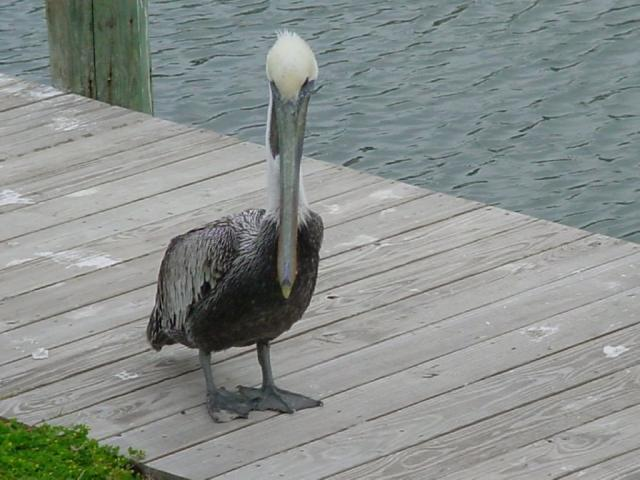Bird: (146, 31, 326, 430)
